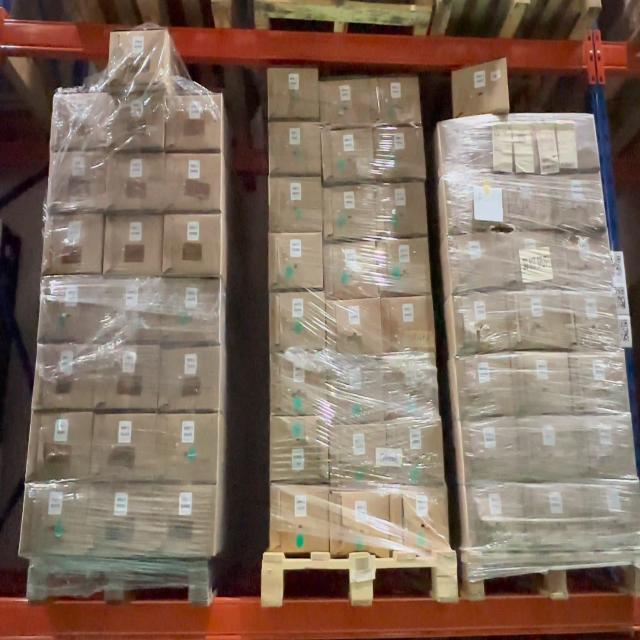box: (87, 485, 154, 553), (154, 485, 217, 555), (25, 484, 87, 554), (95, 413, 157, 482), (158, 412, 218, 482), (32, 413, 90, 481), (160, 345, 220, 410), (41, 276, 100, 340), (271, 417, 328, 483), (100, 278, 162, 338), (389, 490, 448, 553), (36, 345, 95, 408), (271, 486, 329, 550), (163, 278, 220, 342), (518, 419, 579, 478), (44, 214, 103, 274), (99, 346, 156, 408), (332, 490, 388, 552), (588, 482, 640, 548), (387, 424, 444, 484), (525, 488, 583, 546), (106, 213, 162, 273), (513, 352, 570, 410), (51, 150, 106, 210), (465, 418, 515, 483), (329, 360, 381, 422), (454, 58, 509, 116), (165, 214, 220, 272), (331, 425, 385, 484), (460, 354, 511, 416), (471, 485, 522, 547), (272, 355, 326, 413), (580, 414, 630, 476), (166, 153, 221, 209), (107, 153, 165, 206), (386, 356, 436, 417), (271, 293, 325, 349), (54, 92, 108, 148), (457, 291, 505, 353), (511, 294, 565, 348), (270, 233, 322, 289), (326, 241, 376, 299), (328, 298, 378, 356), (576, 353, 624, 412), (452, 232, 499, 292), (167, 95, 221, 147), (495, 176, 551, 226), (110, 32, 166, 82), (383, 296, 432, 352), (110, 97, 163, 148), (567, 292, 616, 347), (448, 175, 494, 233), (507, 230, 554, 286), (271, 178, 321, 230), (544, 117, 598, 165), (270, 124, 321, 174), (493, 117, 542, 169), (380, 239, 427, 293), (562, 232, 608, 286), (324, 129, 372, 180), (554, 172, 600, 225), (442, 122, 492, 170), (378, 126, 422, 180), (325, 186, 374, 234), (378, 184, 424, 234), (268, 70, 318, 116), (374, 76, 418, 124), (320, 82, 371, 122)
